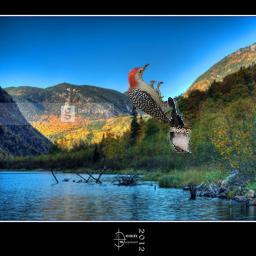Cuckoo: (168, 97, 193, 153)
Woodpecker: (125, 63, 179, 124)
